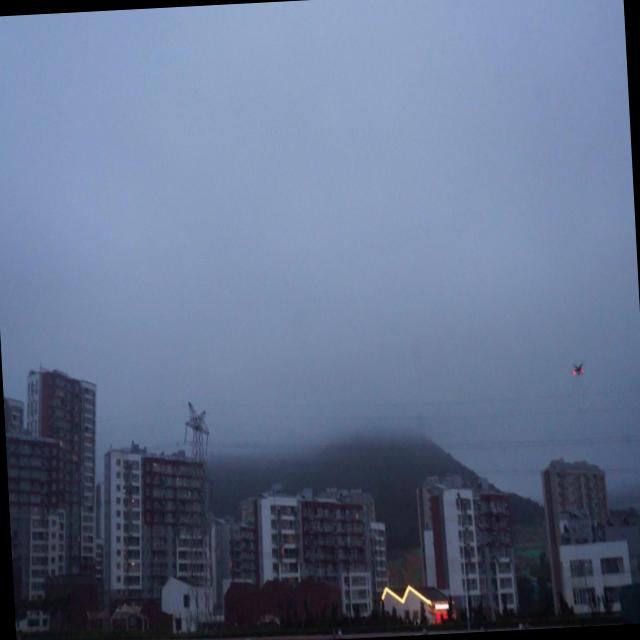drone: (568, 354, 588, 382)
